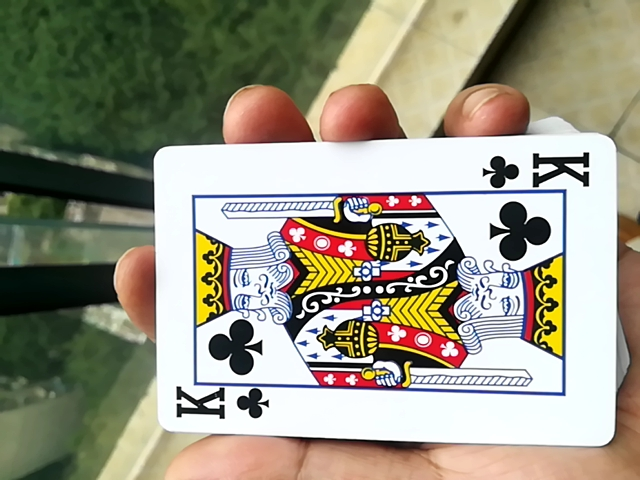mh k: (137, 136, 608, 455)
